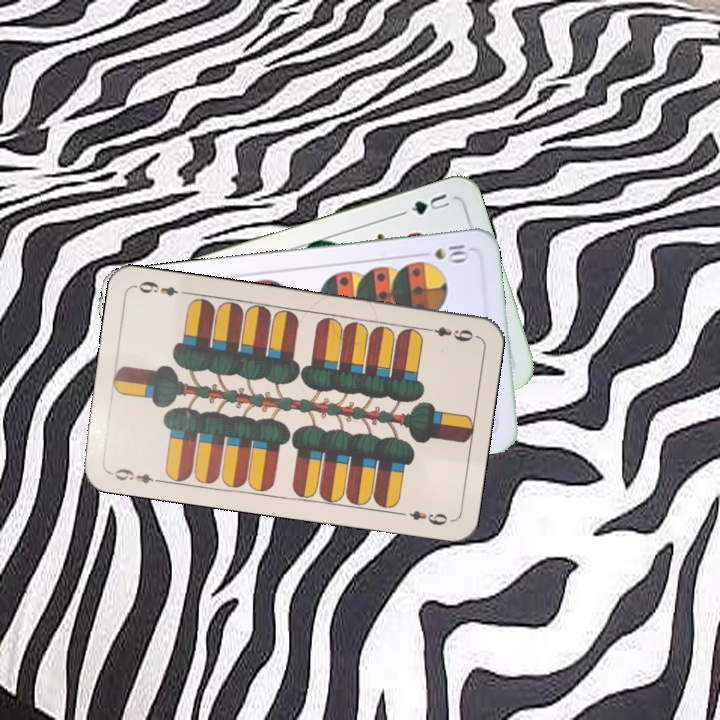E9: (106, 464, 165, 486), (419, 323, 479, 344)
GU: (407, 189, 453, 218)
S10: (430, 240, 473, 264)
